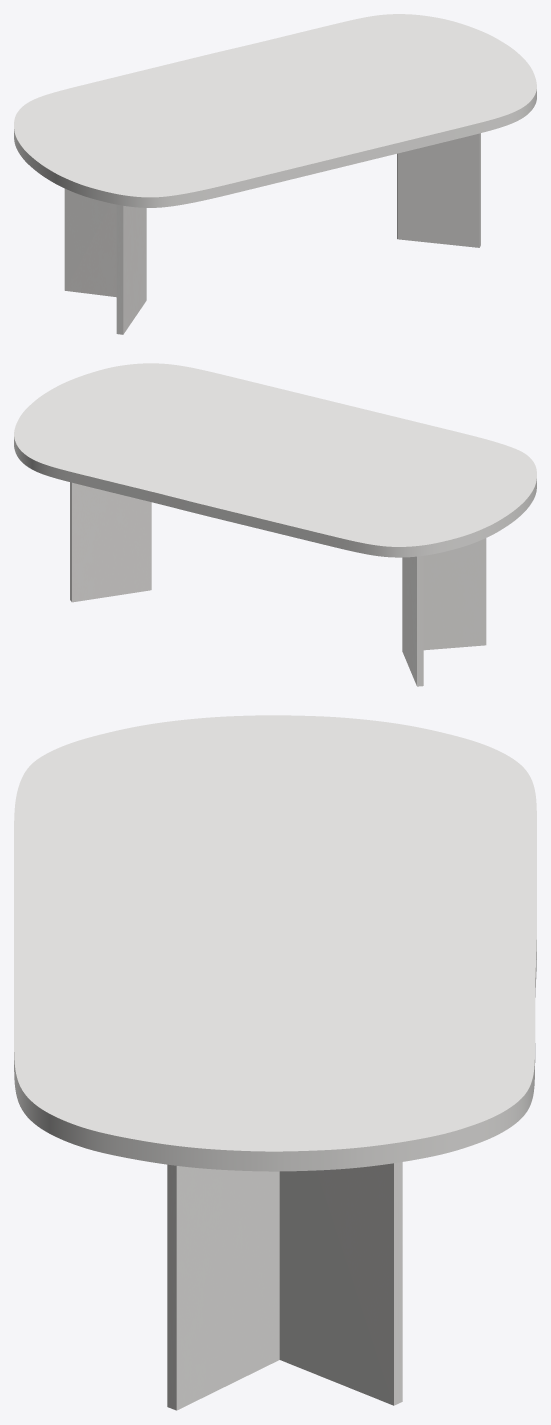
File: purewhite_oval_standard_valleyv.glb
3 renders of one model, top to bottom at view 1: azimuth 30°, elevation 25°; view 2: azimuth 150°, elevation 25°; view 3: azimuth 270°, elevation 25°, orthographic. The views are drawn at different scales.
Parts seen in each view (by area): view 1: standard_oval, valleyv; view 2: standard_oval, valleyv; view 3: standard_oval, valleyv.
Boxes of the visible parts, x1,y1,x2,y2 form: standard_oval: (14,14,536,207); valleyv: (64,133,480,334); standard_oval: (14,363,536,557); valleyv: (70,482,486,686); standard_oval: (14,715,536,1171); valleyv: (167,1162,402,1410).
Bounding box in the file's own units: 7.5 × 2.5 × 3.8.
1 material, 1 textured.
